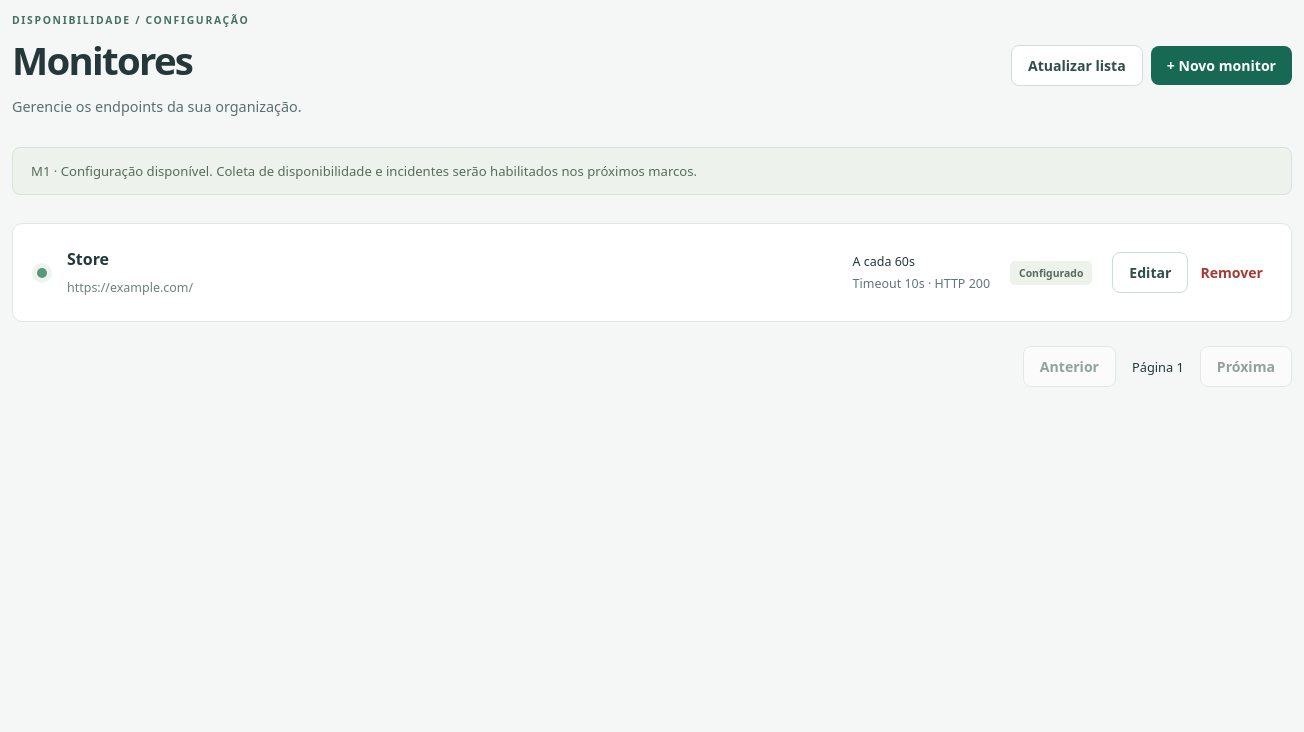
Test case: MonitorDashboard › creates a monitor and refreshes the list
Expected: the heading "Store" is shown, x1=67 y1=248 x2=109 y2=270
Step 1. Click the button "+ Novo monitor" → (1221, 66), box x1=1151 y1=46 x2=1292 y2=85
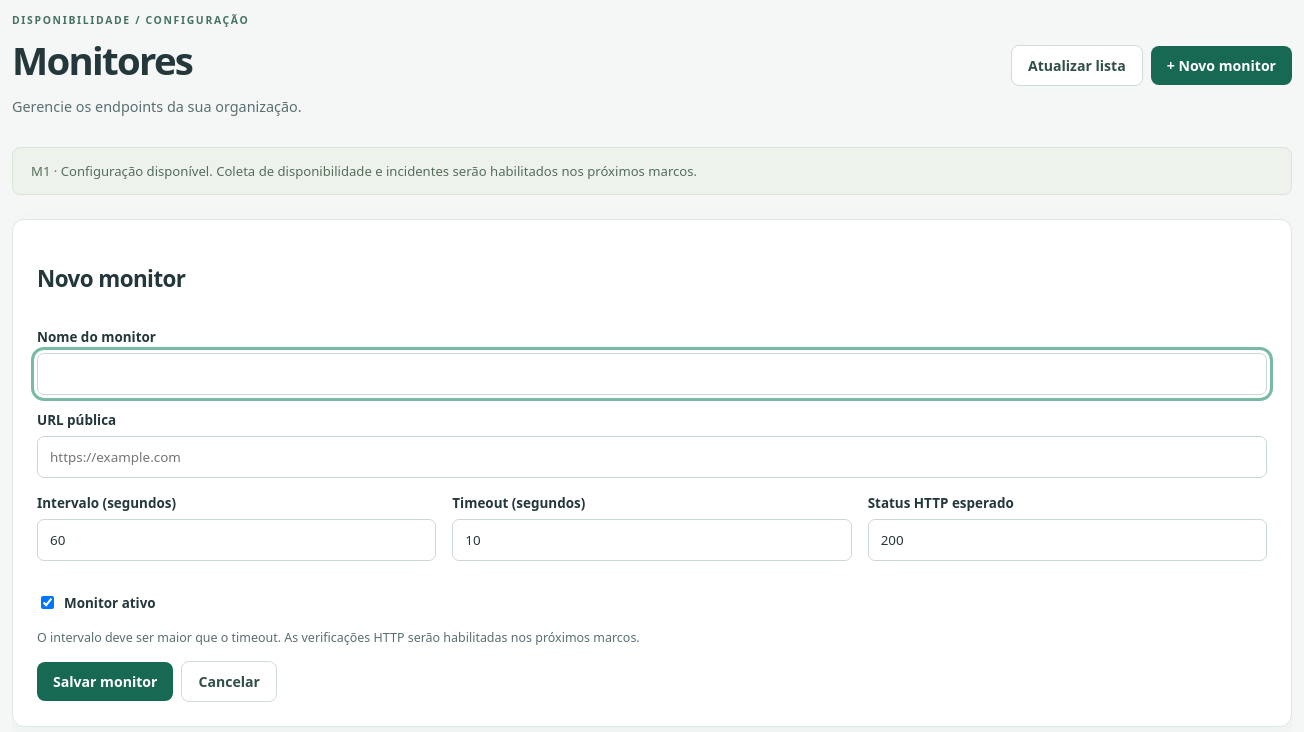
Step 2. Type "API" into the field labelled "Nome do monitor" → (652, 374), box x1=37 y1=353 x2=1267 y2=395
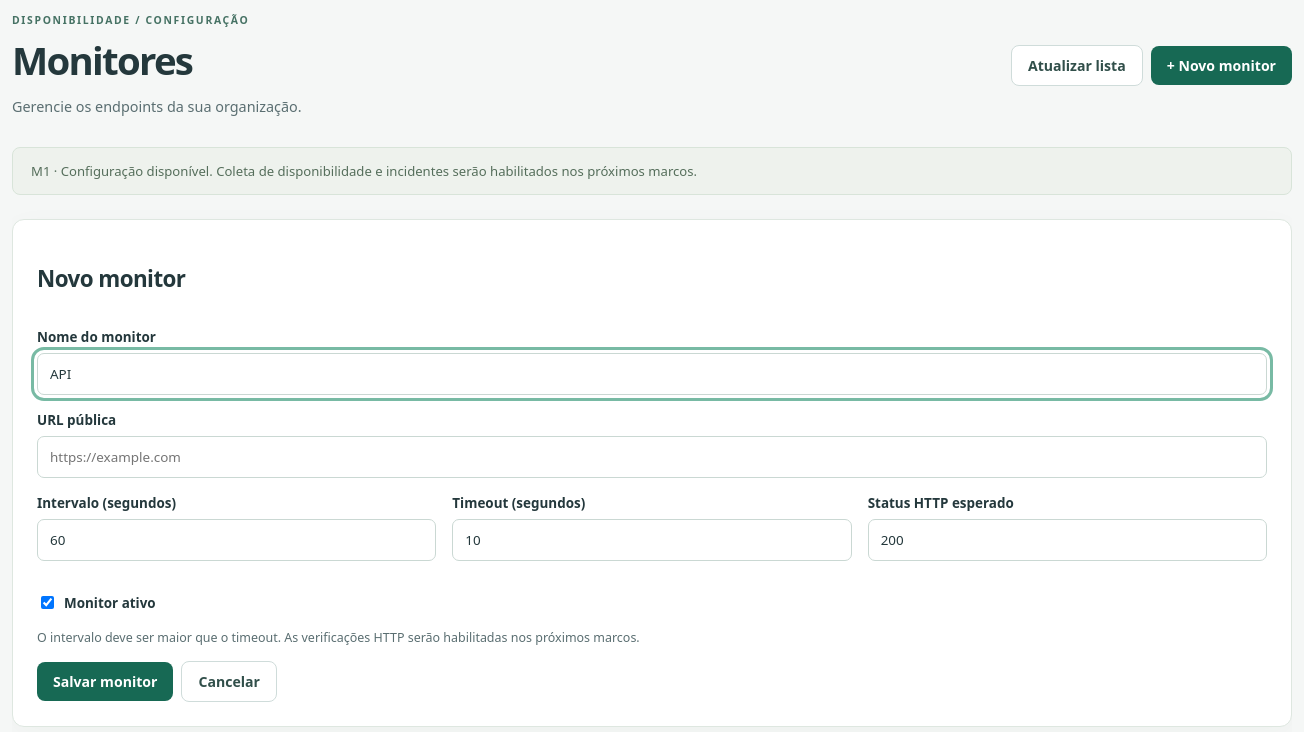
Step 3. Type "https://api.example.com" into the field labelled "URL pública" → (652, 457), box x1=37 y1=436 x2=1267 y2=478
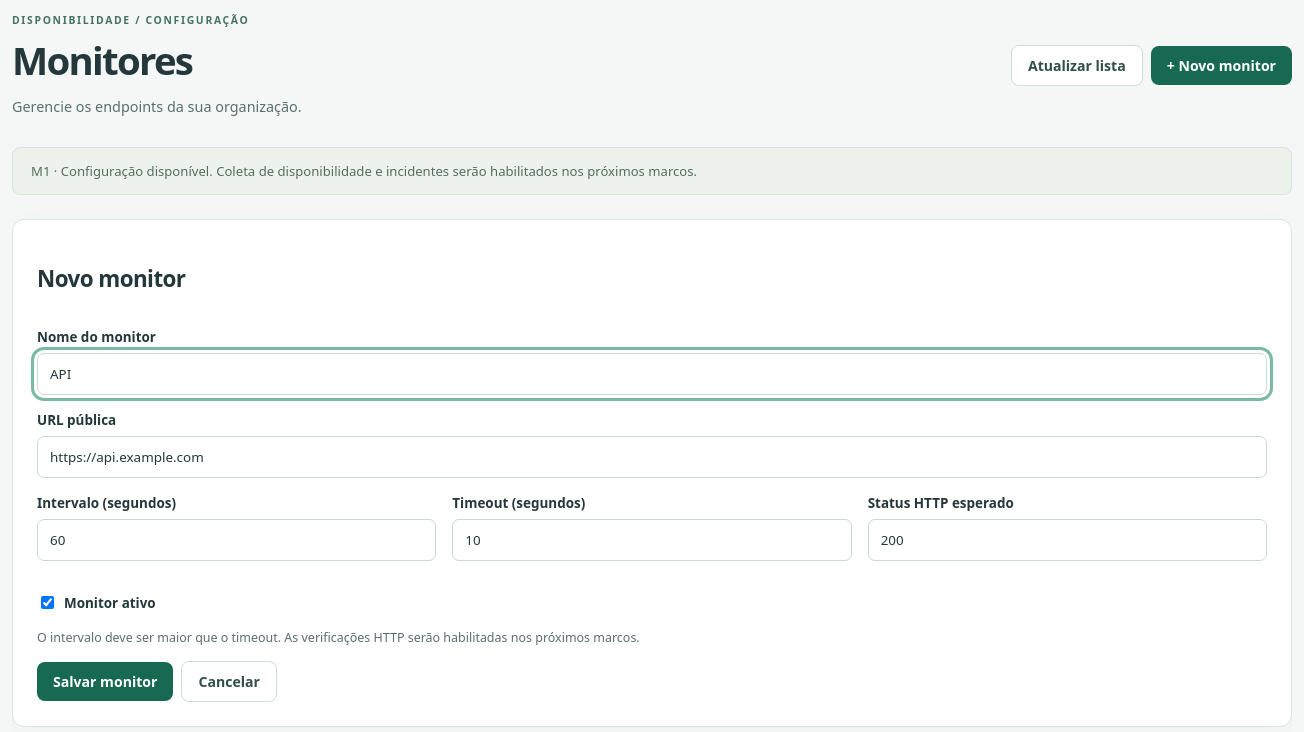
Step 4. Click the button "Salvar monitor" → (105, 682), box x1=37 y1=662 x2=173 y2=701
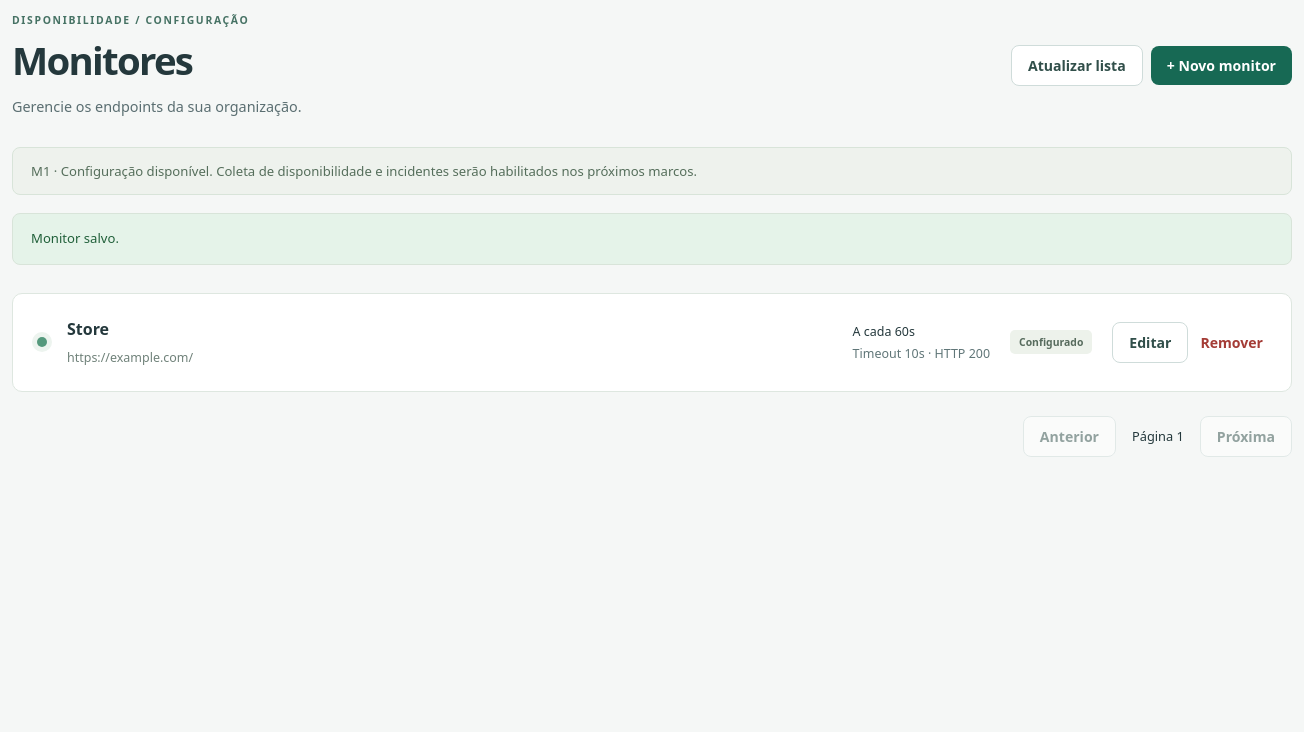
Expected: the text "Monitor salvo." is shown, x1=12 y1=213 x2=1292 y2=265
